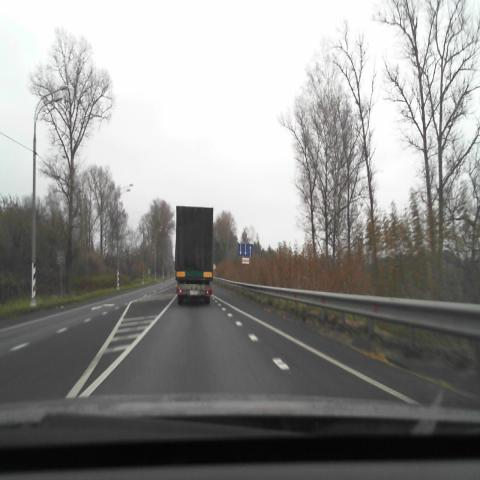5_15_7: (237, 243, 252, 257)
